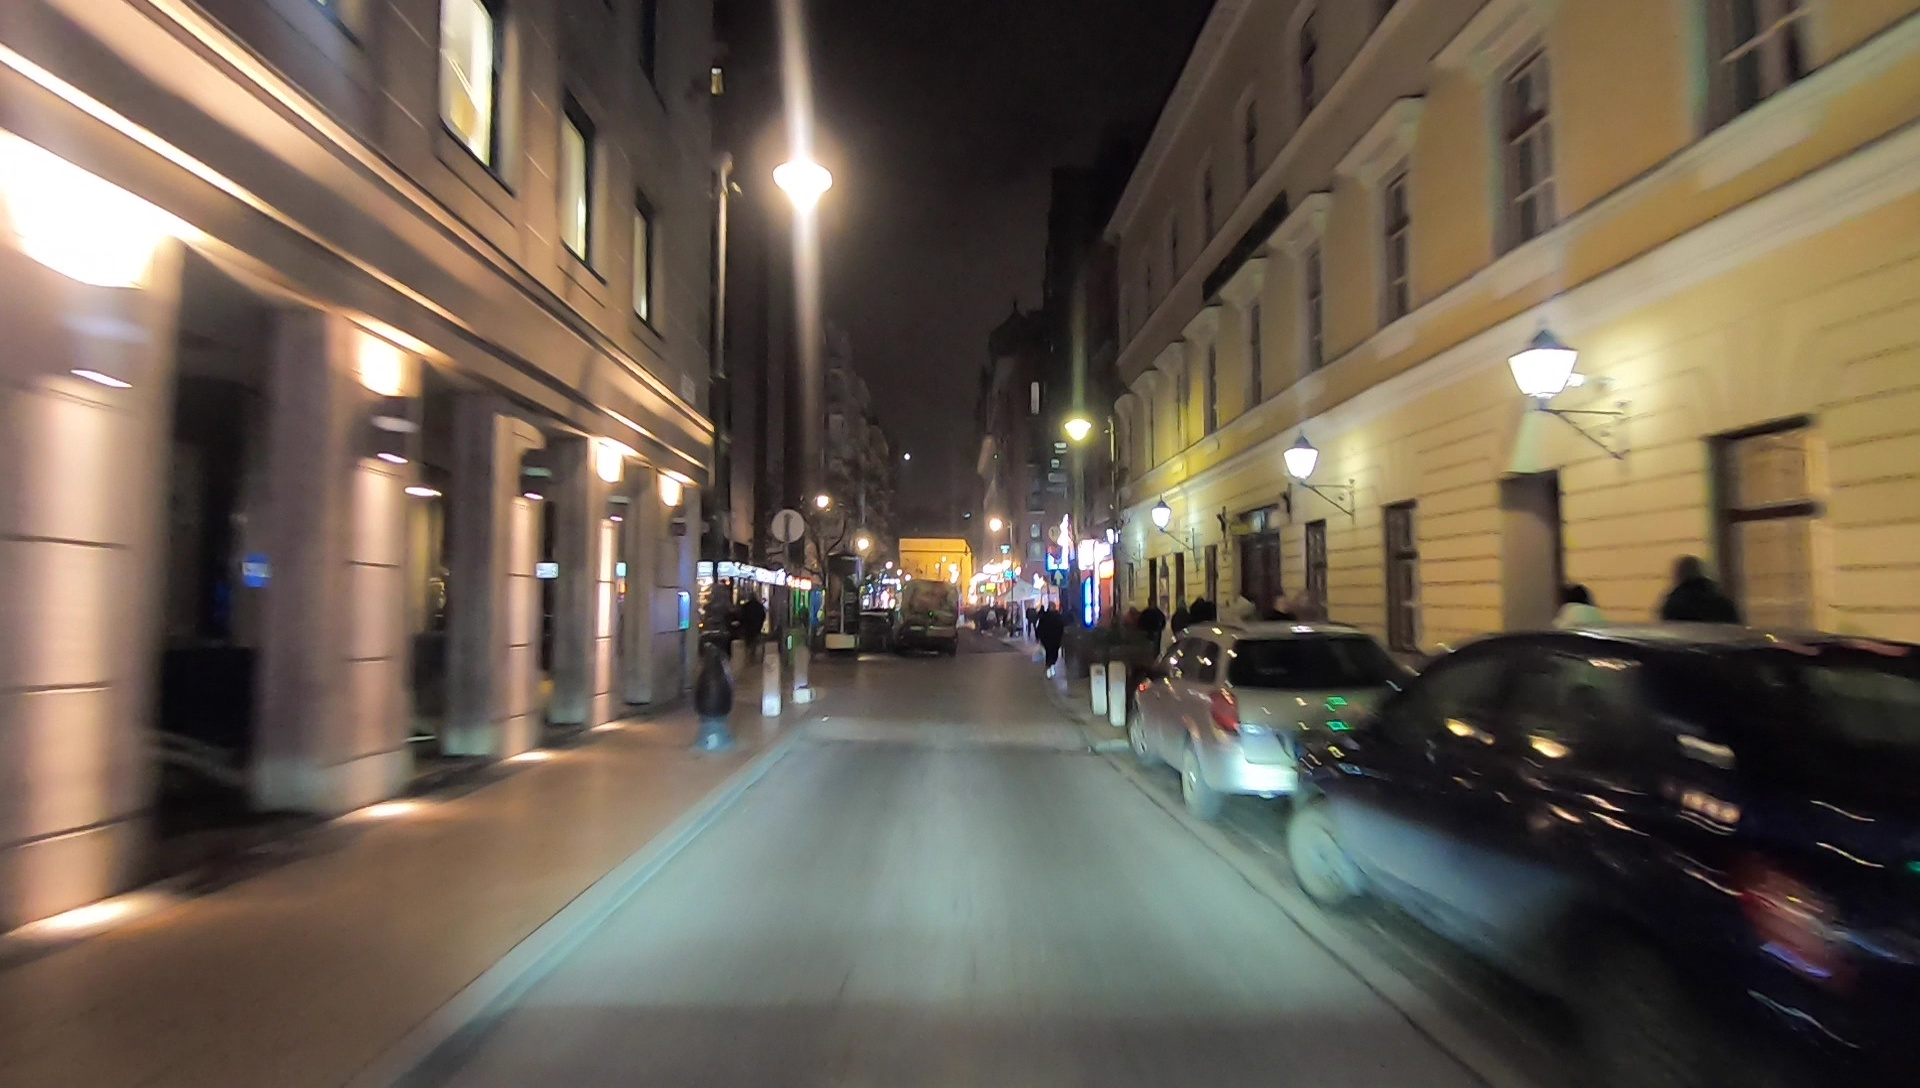person: (1662, 560, 1745, 791), (1543, 580, 1615, 784)
